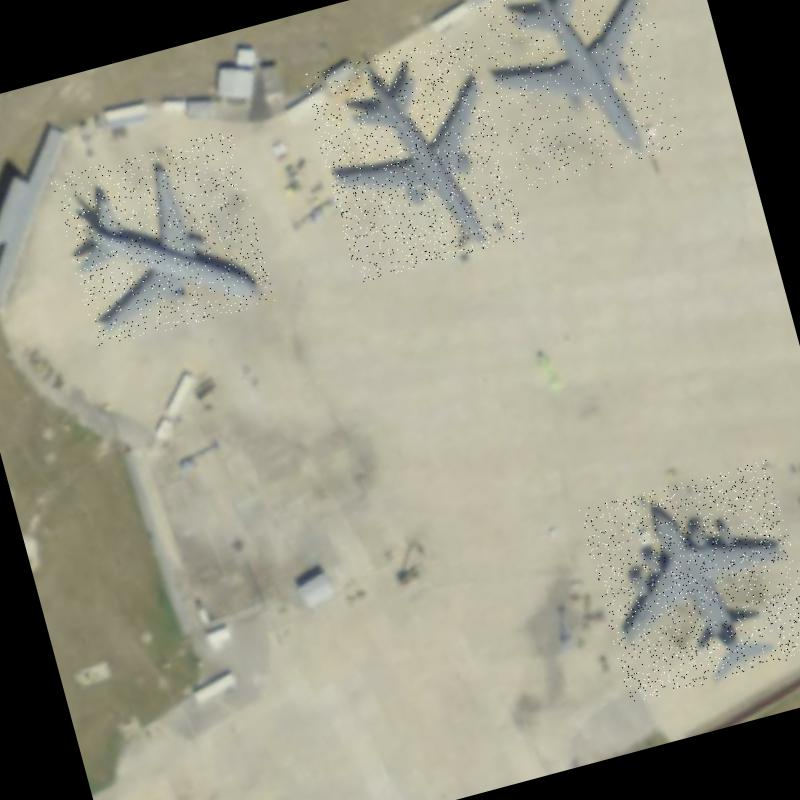A18: (300, 29, 526, 284), (49, 129, 276, 349), (465, 0, 687, 192)
A3: (577, 459, 800, 704)
